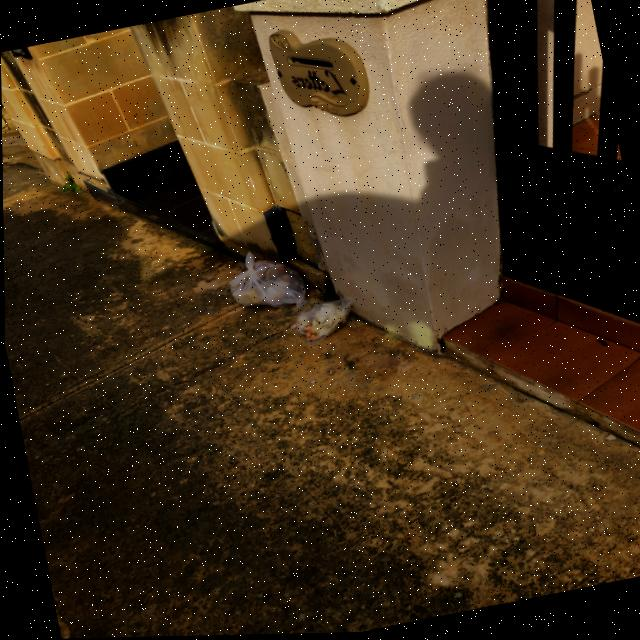Organic Waste -White Bag-: (224, 243, 309, 322), (286, 299, 361, 349)
